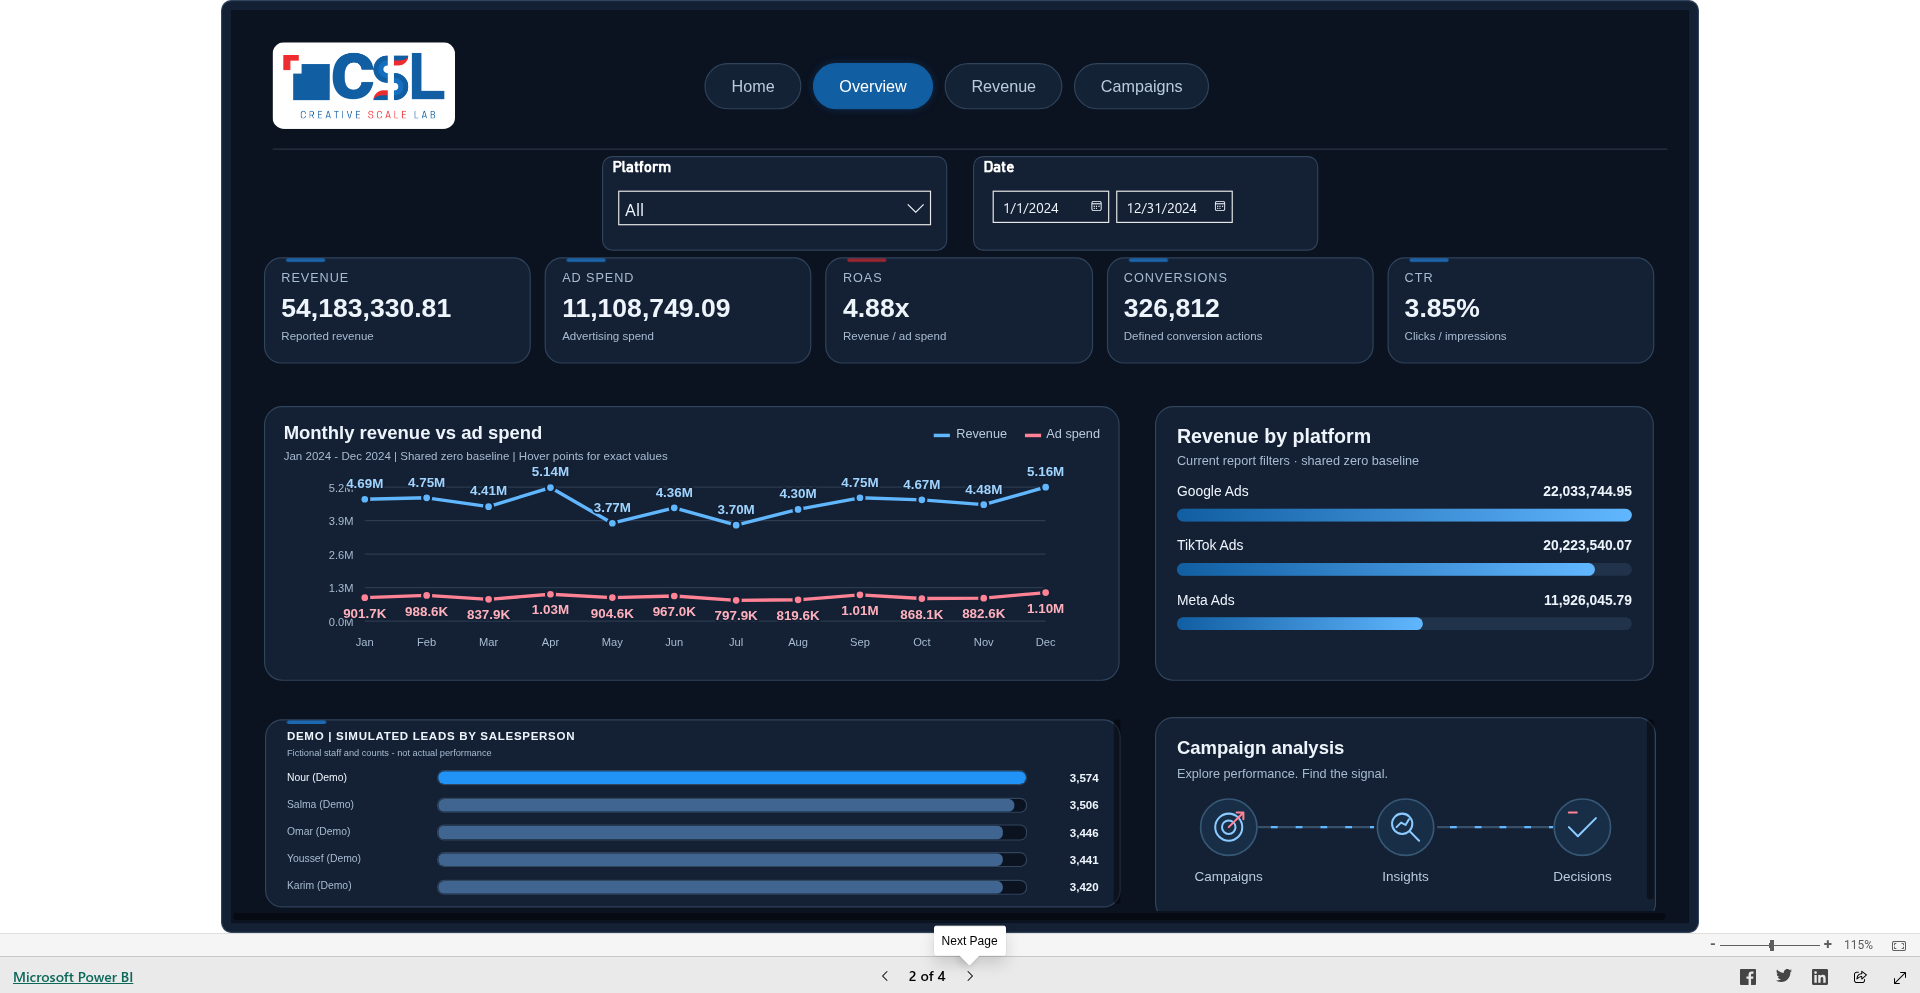

The dashboard page shown, as its layout file describes it:
{"tool":"powerbi","page":{"name":"Overview","canvas":[1280,808],"ordinal":1},"visuals":[{"type":"actionButton","box":[421.8,47.1,94.1,47.1],"z":1000},{"type":"htmlContent443BE3AD55E043BF878BED274D3A6855","fields":{"content":["html_code.CSL Header Overview"]},"box":[0,0,1280,808],"z":1500},{"type":"actionButton","box":[625.2,47.9,105,47.9],"z":2000},{"type":"actionButton","box":[746.1,47.9,95.8,47.9],"z":3000},{"type":"htmlContent443BE3AD55E043BF878BED274D3A6855","fields":{"content":["html_code.CSL Monthly Revenue Spend"]},"box":[32,346,752.9,258],"z":4000},{"type":"htmlContent443BE3AD55E043BF878BED274D3A6855","fields":{"content":["html_code.CSL Revenue by Platform"]},"box":[804,346,444,258],"z":5000},{"type":"slicer","title":"Platform","fields":{"Values":["CSL Platform.platform"]},"box":[330.2,135,298.9,82],"z":6000},{"type":"htmlContent443BE3AD55E043BF878BED274D3A6855","fields":{"content":["html_code.CSL Overview KPIs"]},"box":[32,216,1216,115],"z":7000},{"type":"htmlContent443BE3AD55E043BF878BED274D3A6855","fields":{"content":["html_code.CSL Sales Team Leads"]},"box":[32.6,616,753.2,177.4],"z":8000},{"type":"slicer","title":"Date","fields":{"Values":["Calendar.Date"]},"box":[650.8,135,298.9,82],"z":9000},{"type":"htmlContent443BE3AD55E043BF878BED274D3A6855","fields":{"content":["_Measures.CSL Campaign Analysis Accent"]},"box":[803.6,616,444,178],"z":10000}]}

Visuals, with their boxes on the page's 1280x808 design canvas (x1, y1, x2, y2). These are canvas units, not pixel positions in the 1920x993 screenshot, which may show the page scaled, cropped or inside an application window:
actionButton: region(422, 47, 516, 94)
htmlContent443BE3AD55E043BF878BED274D3A6855 - html_code.CSL Header Overview: region(0, 0, 1280, 808)
actionButton: region(625, 48, 730, 96)
actionButton: region(746, 48, 842, 96)
htmlContent443BE3AD55E043BF878BED274D3A6855 - html_code.CSL Monthly Revenue Spend: region(32, 346, 785, 604)
htmlContent443BE3AD55E043BF878BED274D3A6855 - html_code.CSL Revenue by Platform: region(804, 346, 1248, 604)
"Platform" slicer: region(330, 135, 629, 217)
htmlContent443BE3AD55E043BF878BED274D3A6855 - html_code.CSL Overview KPIs: region(32, 216, 1248, 331)
htmlContent443BE3AD55E043BF878BED274D3A6855 - html_code.CSL Sales Team Leads: region(33, 616, 786, 793)
"Date" slicer: region(651, 135, 950, 217)
htmlContent443BE3AD55E043BF878BED274D3A6855 - _Measures.CSL Campaign Analysis Accent: region(804, 616, 1248, 794)
